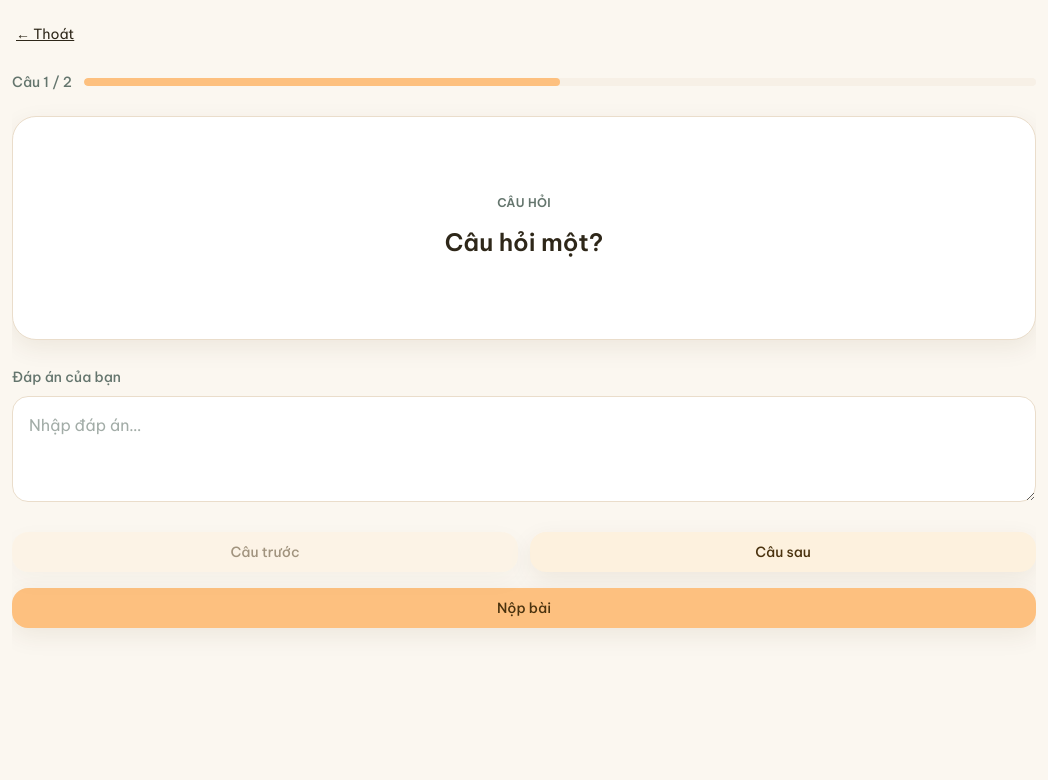
it: TypingSession › submits all answers and shows the result screen
Expected: the text "Câu hỏi một?" is shown, left=445, top=222, right=603, bottom=262
Type "Đáp án một" into the text box named "Đáp án cho câu 1".
click(524, 449); type("Đáp án một")  # box left=12, top=396, right=1036, bottom=502
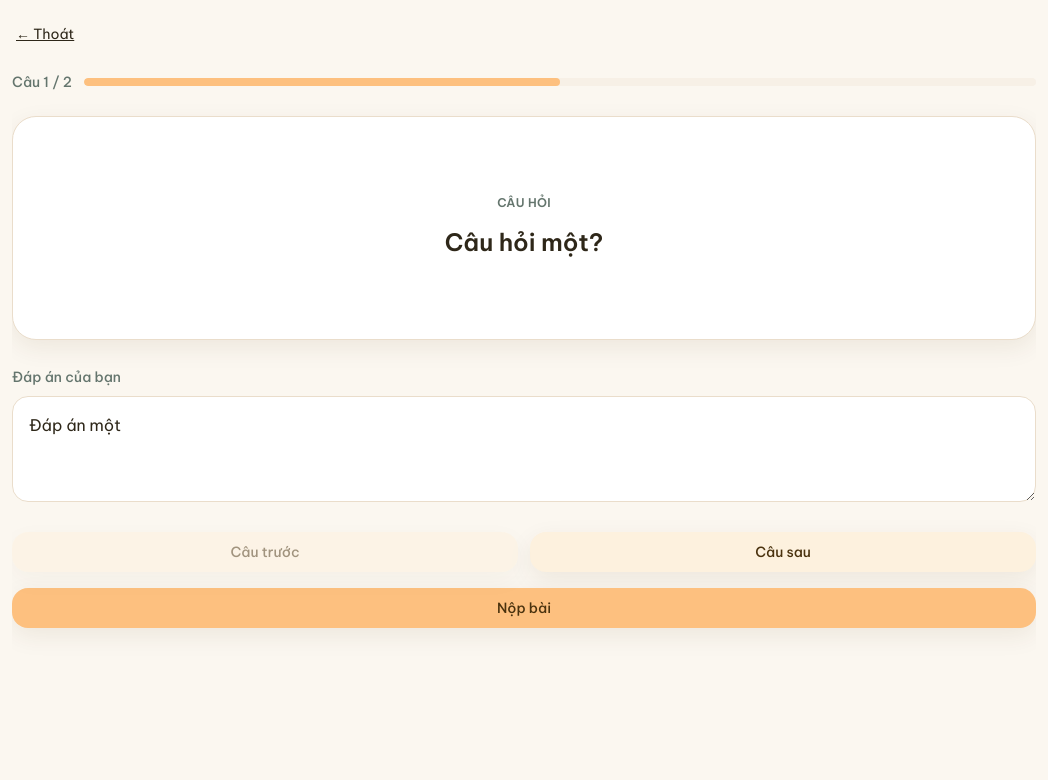
Click the button "Câu sau".
click(783, 552)  # box left=530, top=532, right=1036, bottom=572
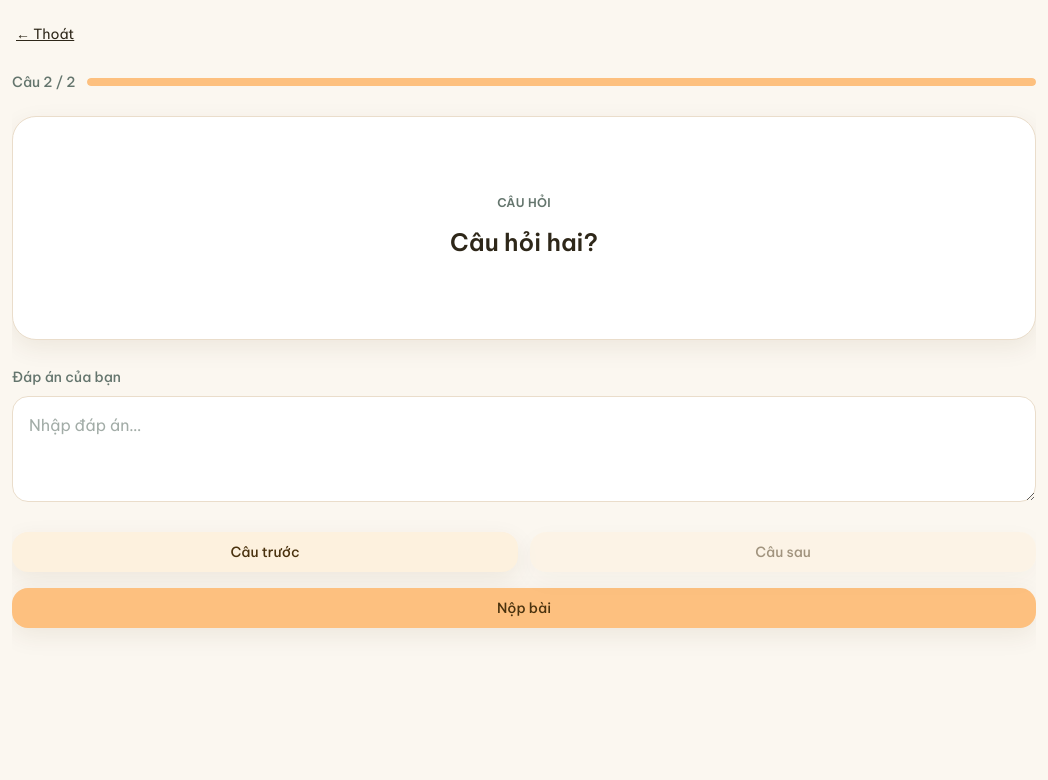
Type "sai rồi" into the text box named "Đáp án cho câu 2".
click(524, 449); type("sai rồi")  # box left=12, top=396, right=1036, bottom=502
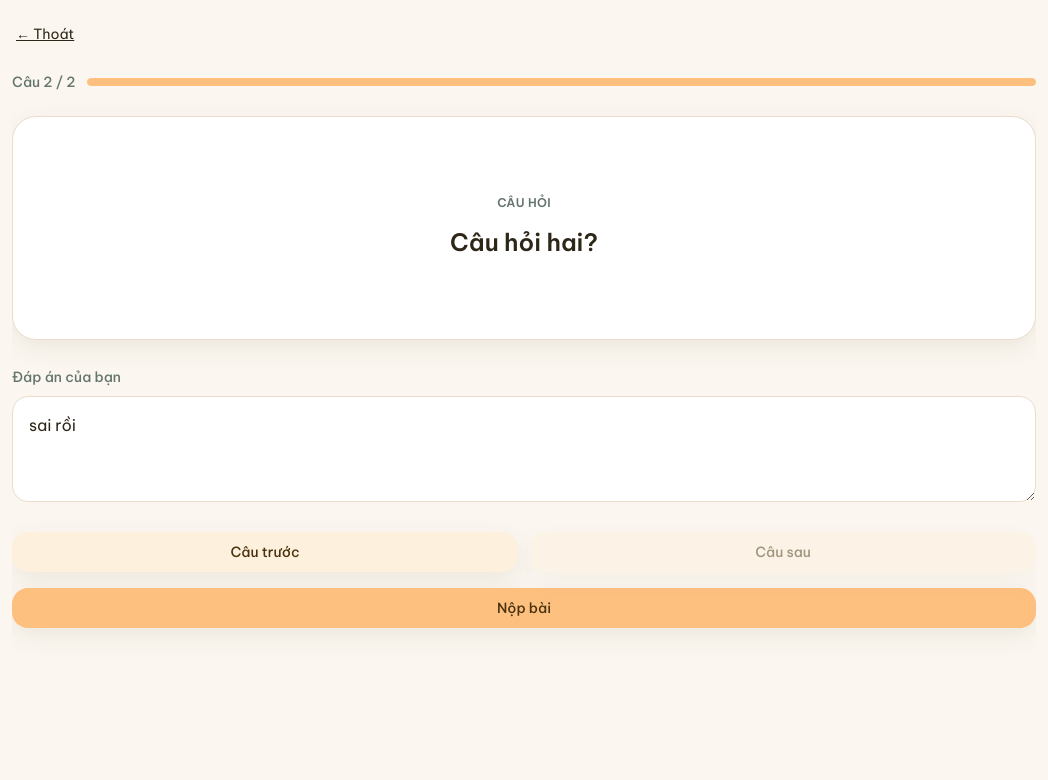
Click the button "Nộp bài".
click(524, 608)  # box left=12, top=588, right=1036, bottom=628
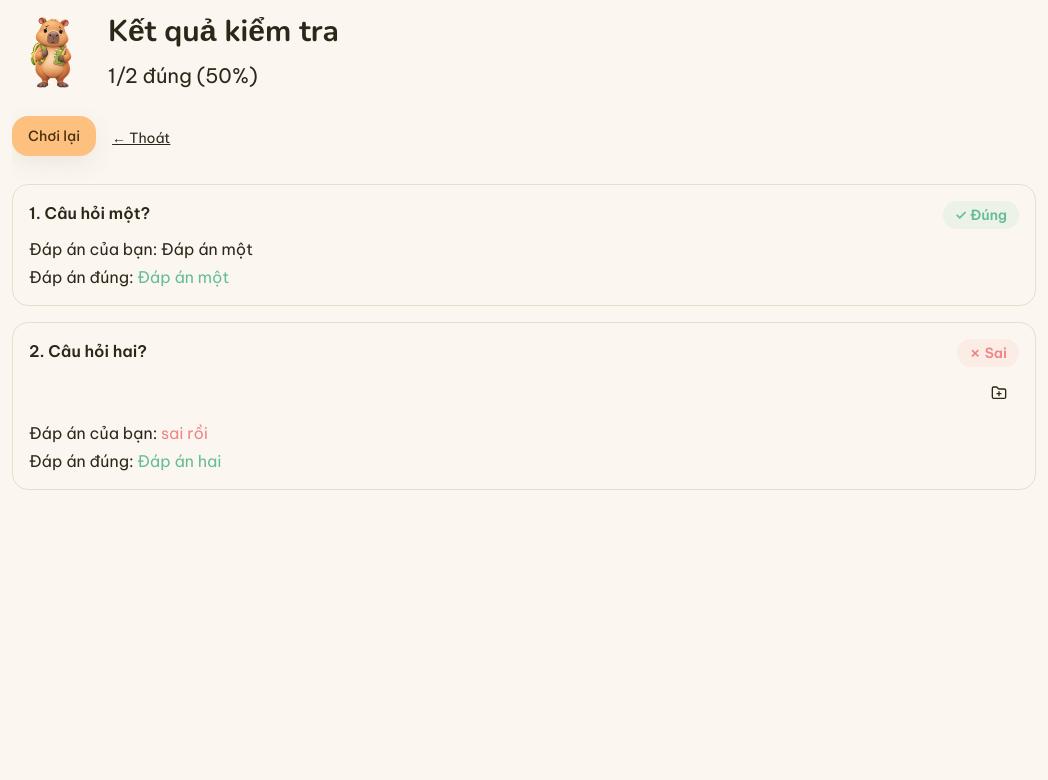
Expected: the heading "Kết quả kiểm tra" is shown, left=108, top=14, right=339, bottom=50
Expected: the text "1/2 đúng (50%)" is shown, left=108, top=63, right=258, bottom=88
Expected: the text "Đáp án của bạn:" is shown 2 times, left=29, top=239, right=253, bottom=259; left=29, top=423, right=208, bottom=443
